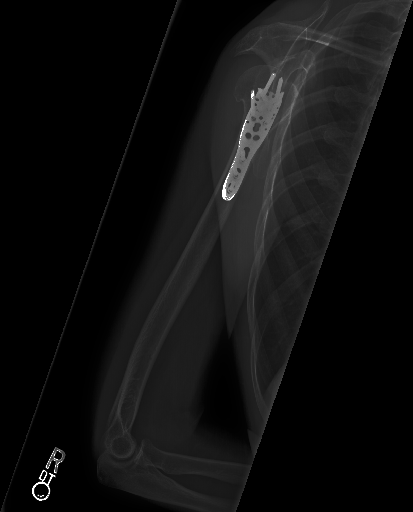implant: (222, 72, 290, 199)
